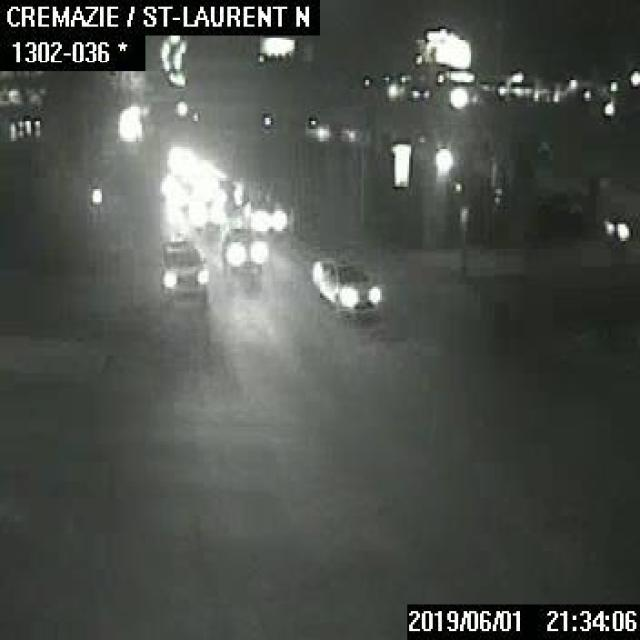construction: (285, 206, 293, 226)
vehicle: (311, 251, 378, 313), (156, 232, 209, 298), (218, 226, 268, 268)
